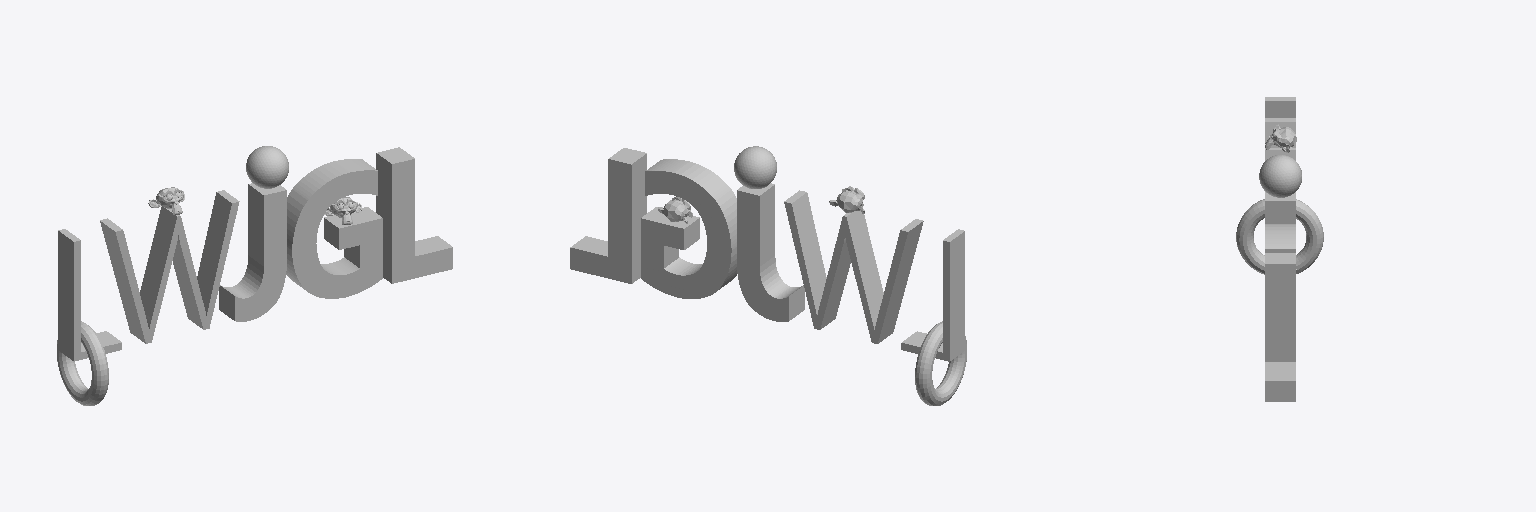
3 views of the same model, side by side, from view 1: azimuth 30°, elevation 25°; view 2: azimuth 150°, elevation 25°; view 3: azimuth 270°, elevation 25° (orthographic).
Visible parts, largest first — view 1: LWJGL_CUCurve.003, Torus, Icosphere, Suzanne.001, Suzanne; view 2: LWJGL_CUCurve.003, Torus, Icosphere, Suzanne.001, Suzanne; view 3: LWJGL_CUCurve.003, Torus, Icosphere, Suzanne.001.
Part boxes in pixels (bbox=[...]): LWJGL_CUCurve.003: bbox=[58, 147, 452, 361]; Torus: bbox=[57, 321, 108, 405]; Icosphere: bbox=[246, 146, 288, 188]; Suzanne.001: bbox=[148, 187, 184, 214]; Suzanne: bbox=[324, 197, 361, 224]; LWJGL_CUCurve.003: bbox=[570, 148, 964, 361]; Torus: bbox=[915, 321, 966, 405]; Icosphere: bbox=[734, 146, 776, 188]; Suzanne.001: bbox=[829, 186, 864, 213]; Suzanne: bbox=[658, 196, 692, 223]; LWJGL_CUCurve.003: bbox=[1265, 97, 1295, 401]; Torus: bbox=[1236, 199, 1323, 274]; Icosphere: bbox=[1259, 155, 1301, 197]; Suzanne.001: bbox=[1265, 124, 1296, 152].
Bounding box in the file's own units: 4.33 × 2.29 × 0.8674.